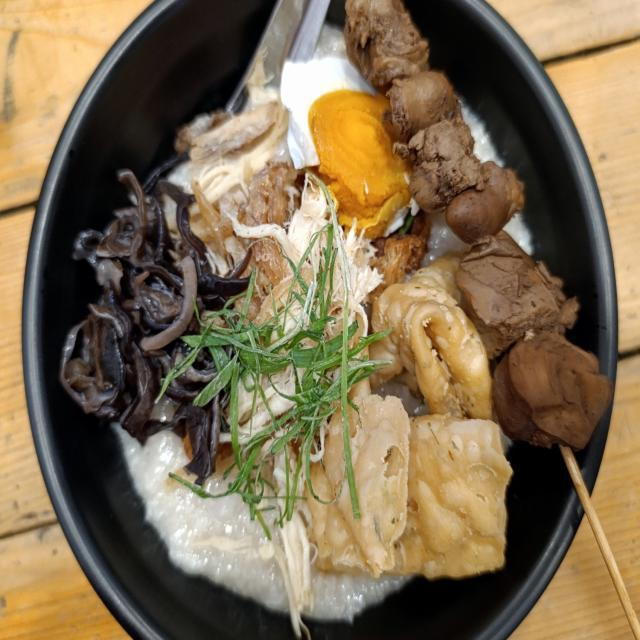bubur ayam: (61, 20, 558, 626)
mangkuk: (14, 1, 620, 640)
